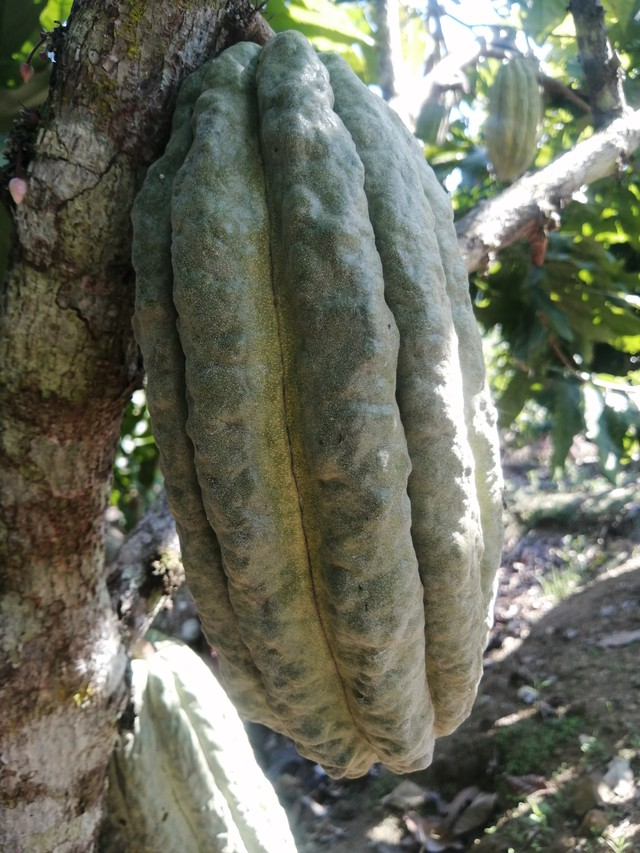Health: (106, 23, 518, 799)
